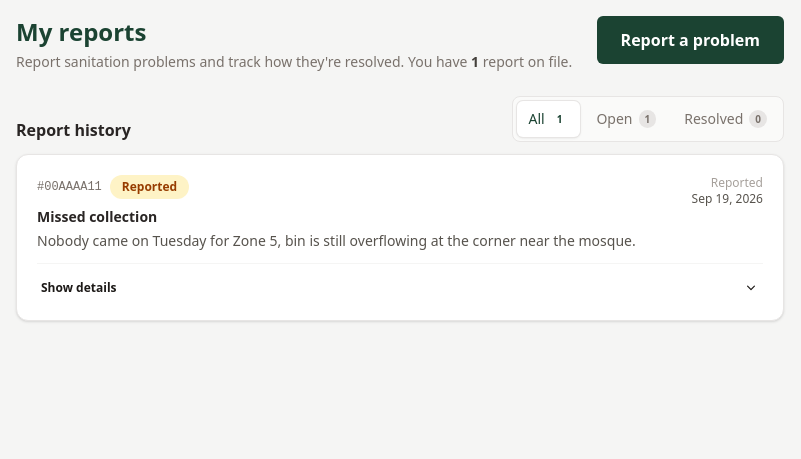
Test: Complaints Page › list view + empty state › renders complaint cards with id, category, status, created date
Expected: the text "Missed collection" is shown, [37,207,157,226]
Expected: the text "#00AAAA11" is shown, [37,179,102,195]
Note: Expandable details
What coordinates should you click on to do the following:
click the button "Show details"
I would click on:
 (79, 288)
Its box is [37,276,763,300].
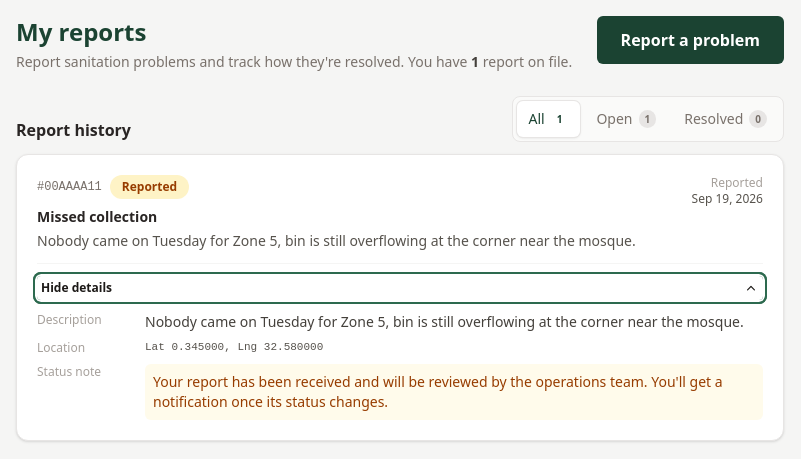
Expected: the text "Lat 0.345000, Lng 32.580000" is shown, [145,341,323,353]
Expected: the text "Your report has been received and will be reviewed" is shown, [153,372,723,411]
